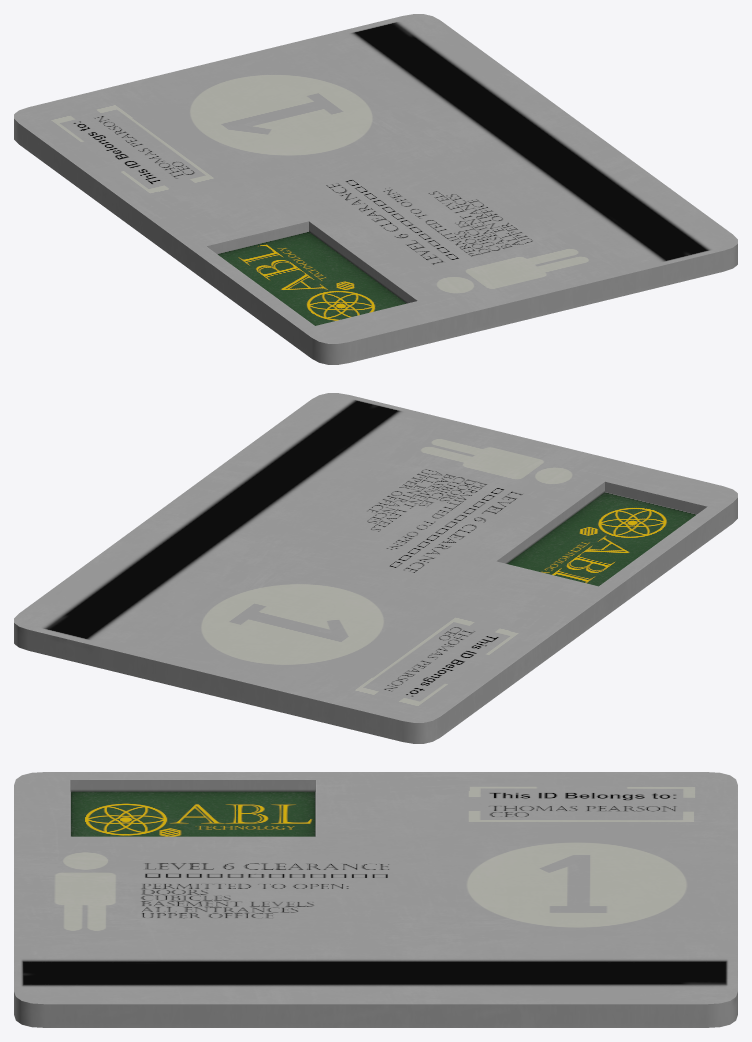
Rendered from keycard.glb.
3 renders of one model, top to bottom at view 1: azimuth 30°, elevation 25°; view 2: azimuth 150°, elevation 25°; view 3: azimuth 270°, elevation 25°, orthographic. The views are drawn at different scales.
Parts seen in each view (by area): view 1: Box001; view 2: Box001; view 3: Box001.
Part boxes in pixels (bbox=[...]): Box001: bbox=[14, 14, 737, 364]; Box001: bbox=[14, 393, 737, 743]; Box001: bbox=[14, 772, 737, 1027].
Size of the model in its own units: 0.0877 by 0.00418 by 0.1155.
1 material, 1 textured.
